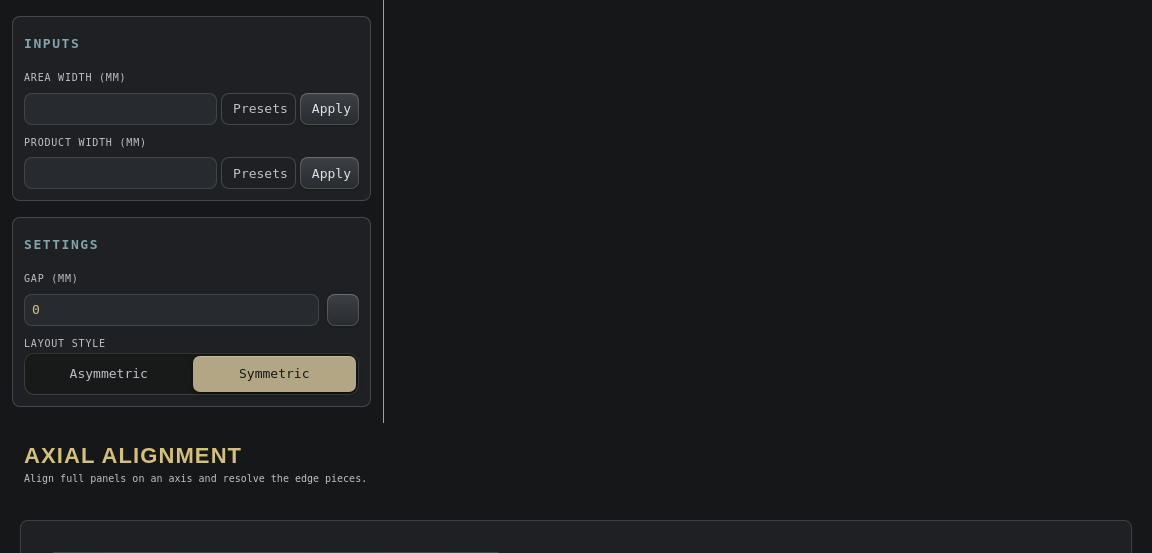
material presets on the symmetric layout page › applies only the width from an input preset to area width
Click the button titled "Presets" below "Area width (mm)".
click(258, 108)  # box [221,92,296,124]
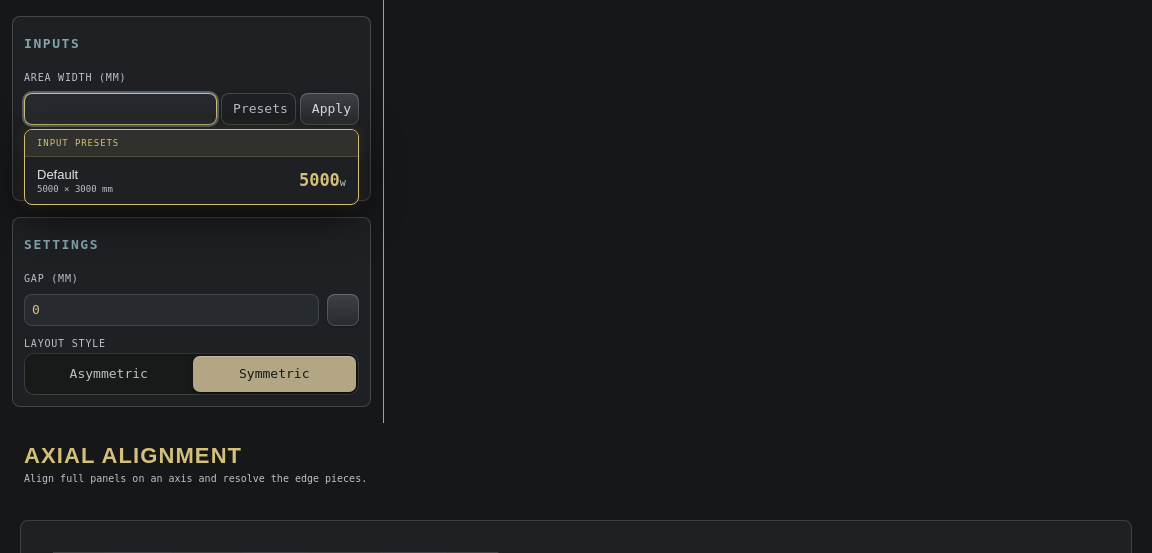
Check: the text "Input Presets" is shown, box [25,130,358,156]
Click the text "Default".
click(58, 174)  # box [37,166,78,182]
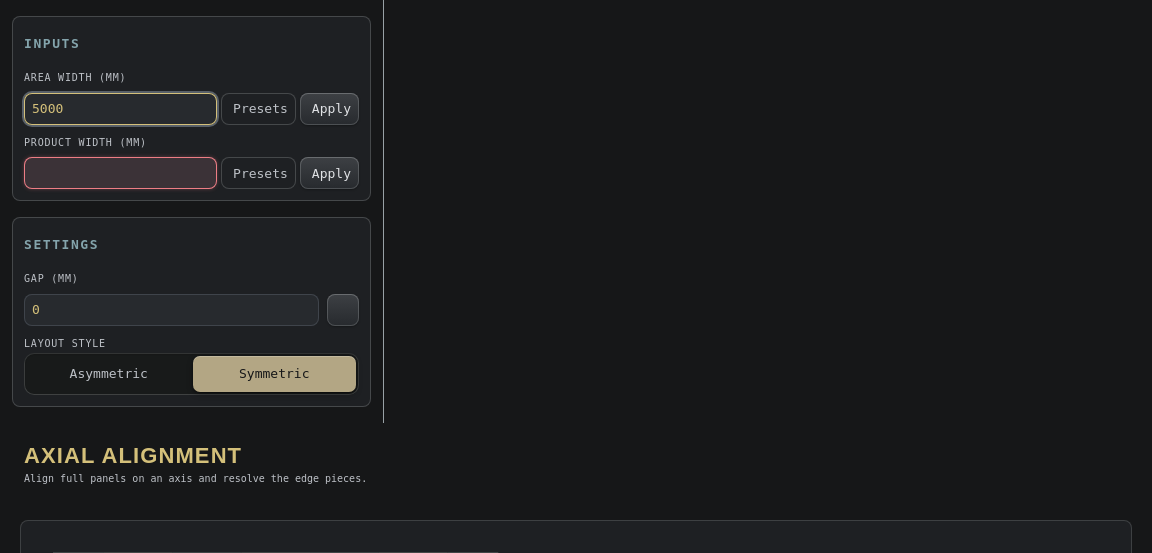
Check: the dropdown with id "input-sym-panel-width" is empty, box [24,157,217,189]
Check: the dropdown with id "input-sym-room-width" holds "5000", box [24,92,217,124]
Check: the text "Input Presets" is gone
